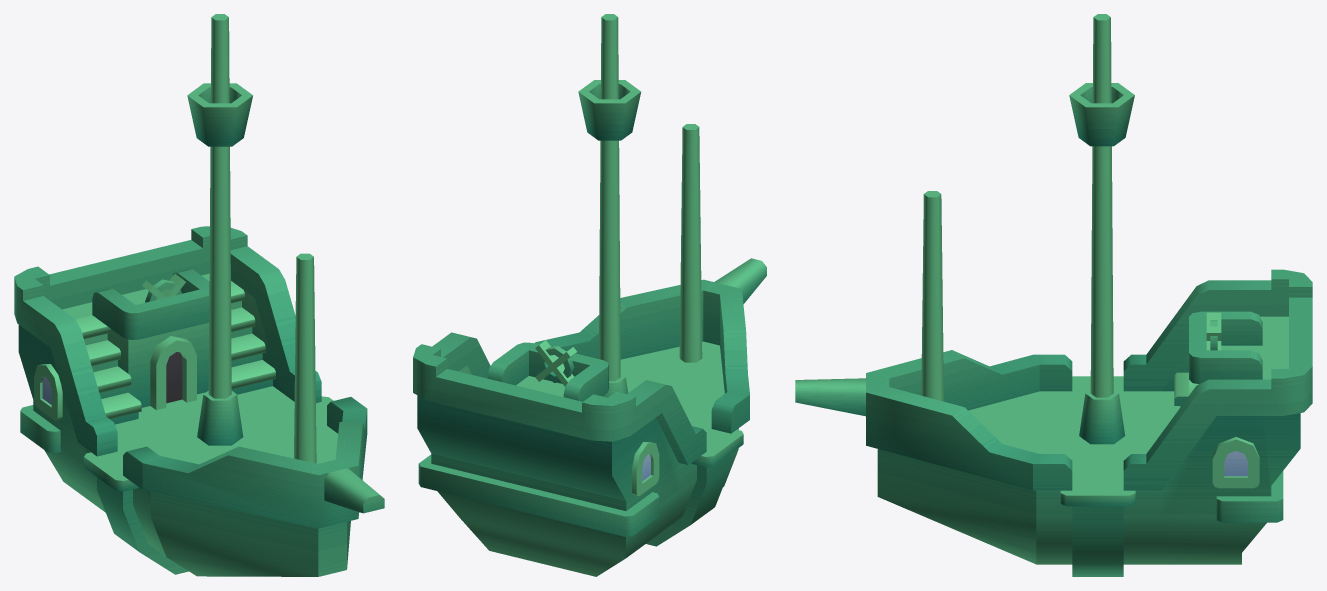
The model's file is ship_small_hull_green.glb.
The picture shows the model from 3 angles, left to right: view 1: azimuth 30°, elevation 25°; view 2: azimuth 150°, elevation 25°; view 3: azimuth 270°, elevation 25°; orthographic projection. The views are drawn at different scales.
Visible parts, largest first — view 1: ship_small_green; view 2: ship_small_green; view 3: ship_small_green.
Boxes of the visible parts, x1,y1,x2,y2 form: ship_small_green: (14,14,384,576); ship_small_green: (413,14,766,576); ship_small_green: (795,14,1312,576).
Size of the model in its own units: 4.8 by 9.96 by 8.8.
Materials: 1 (1 with a texture image).
